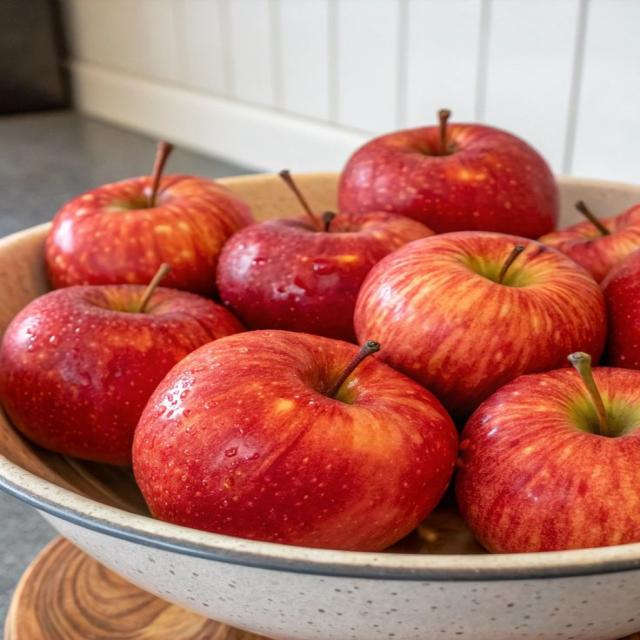apple: (134, 331, 457, 551), (355, 232, 606, 418), (0, 285, 243, 465), (456, 353, 639, 552), (46, 143, 253, 296), (217, 199, 433, 341), (339, 110, 559, 238), (540, 201, 639, 281), (602, 250, 639, 369)
